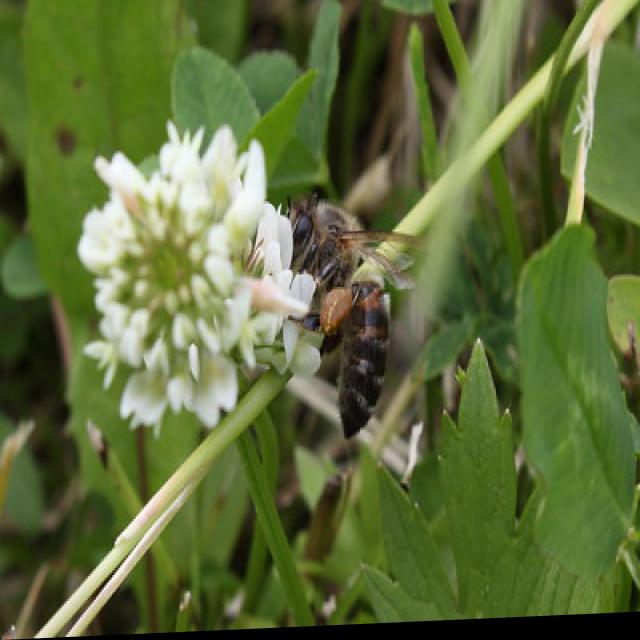Abeille: (266, 164, 447, 442)
